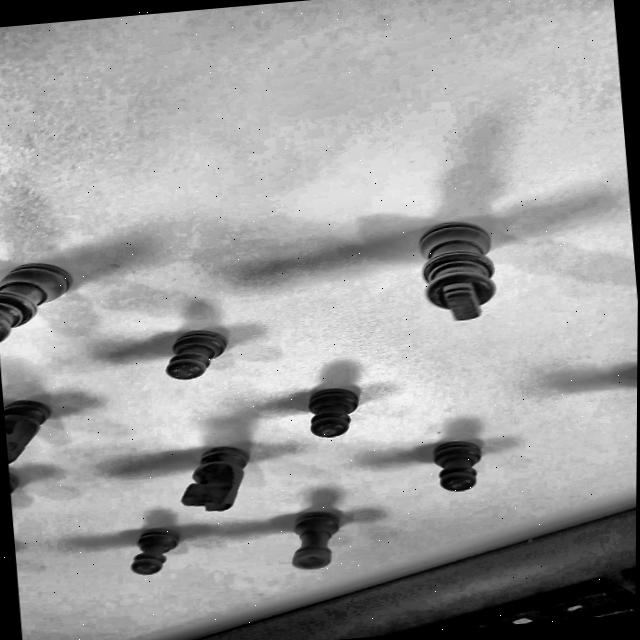black-king: (401, 210, 528, 328)
black-knight: (160, 439, 266, 516), (1, 379, 67, 466)
black-pawn: (137, 317, 257, 391), (112, 518, 202, 588), (415, 428, 503, 498), (295, 378, 383, 444)
black-rook: (270, 502, 360, 578)
